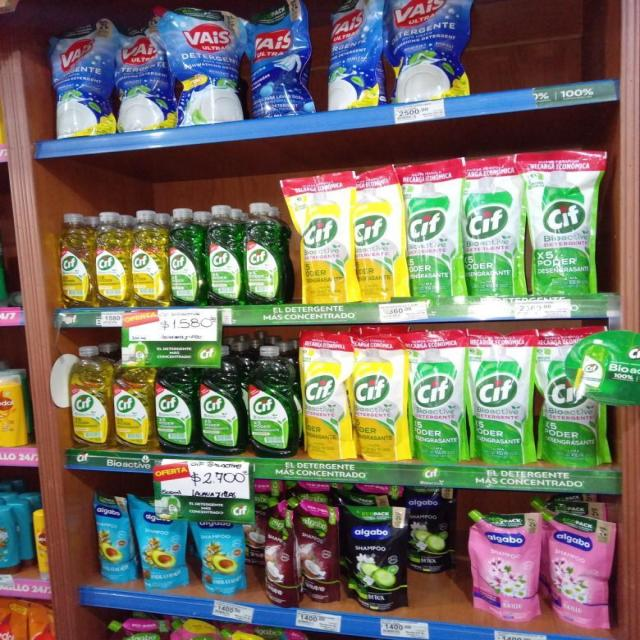ala_sachet_amarillo: (229, 627, 276, 640)
cif_conc_bot_amarilla: (69, 344, 111, 449), (114, 348, 154, 452), (131, 208, 167, 308), (58, 212, 93, 309), (95, 211, 129, 308)
cif_conc_botella_verde: (248, 343, 298, 458), (199, 344, 245, 456), (244, 202, 286, 306), (156, 358, 197, 453), (206, 204, 242, 306), (169, 208, 204, 306)
cif_conc_sachet_amarillo: (293, 170, 352, 304), (353, 325, 408, 461), (353, 166, 404, 302), (301, 327, 352, 460)
cif_conc_sachet_verde: (528, 151, 599, 296), (537, 326, 608, 468), (471, 325, 534, 466), (465, 156, 525, 297), (410, 324, 468, 464), (407, 160, 462, 300)
